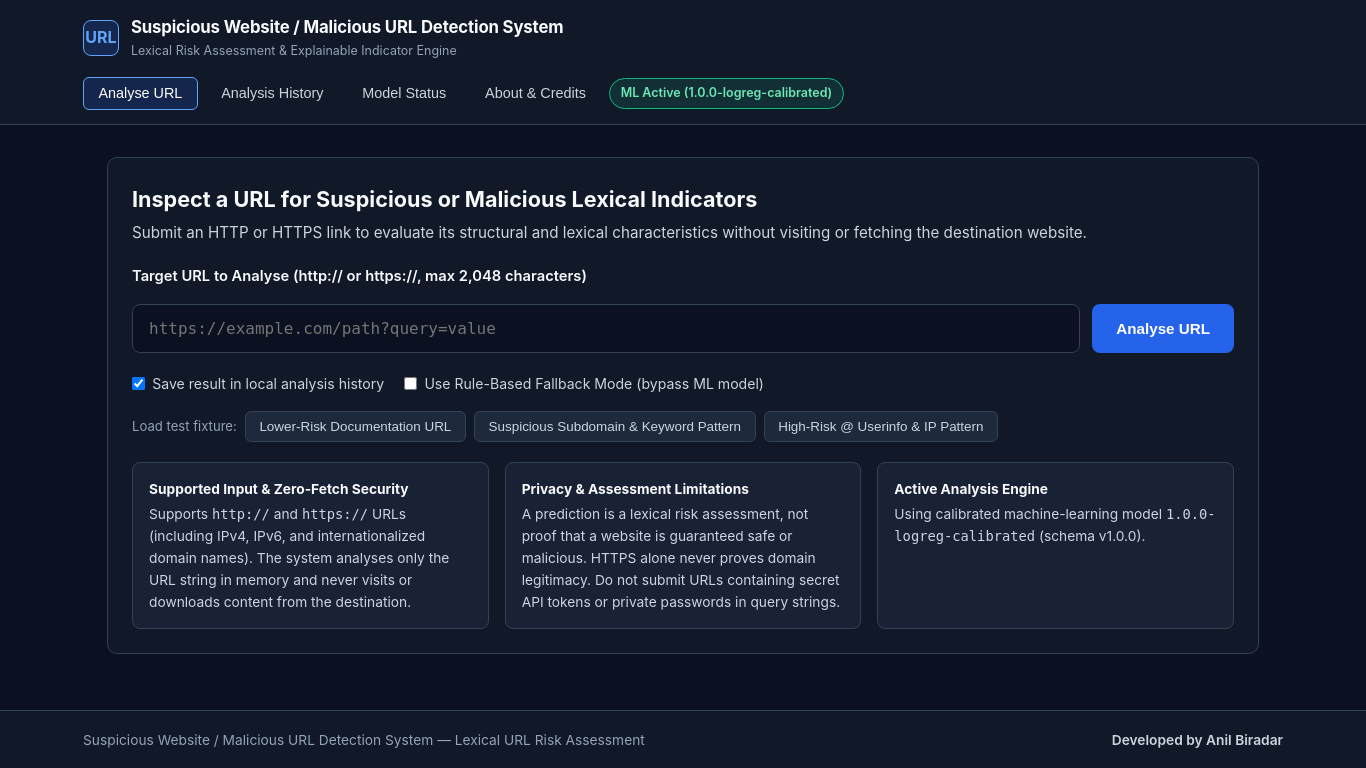
Test: Frontend Application Suite (TC-30 to TC-34 & Branding Verification) › TC-32: Understandable error messages are displayed for empty and invalid inputs
// Submit empty input
Click the button with test id "analyze-submit-btn": (1163,328) [1092,304,1234,353]
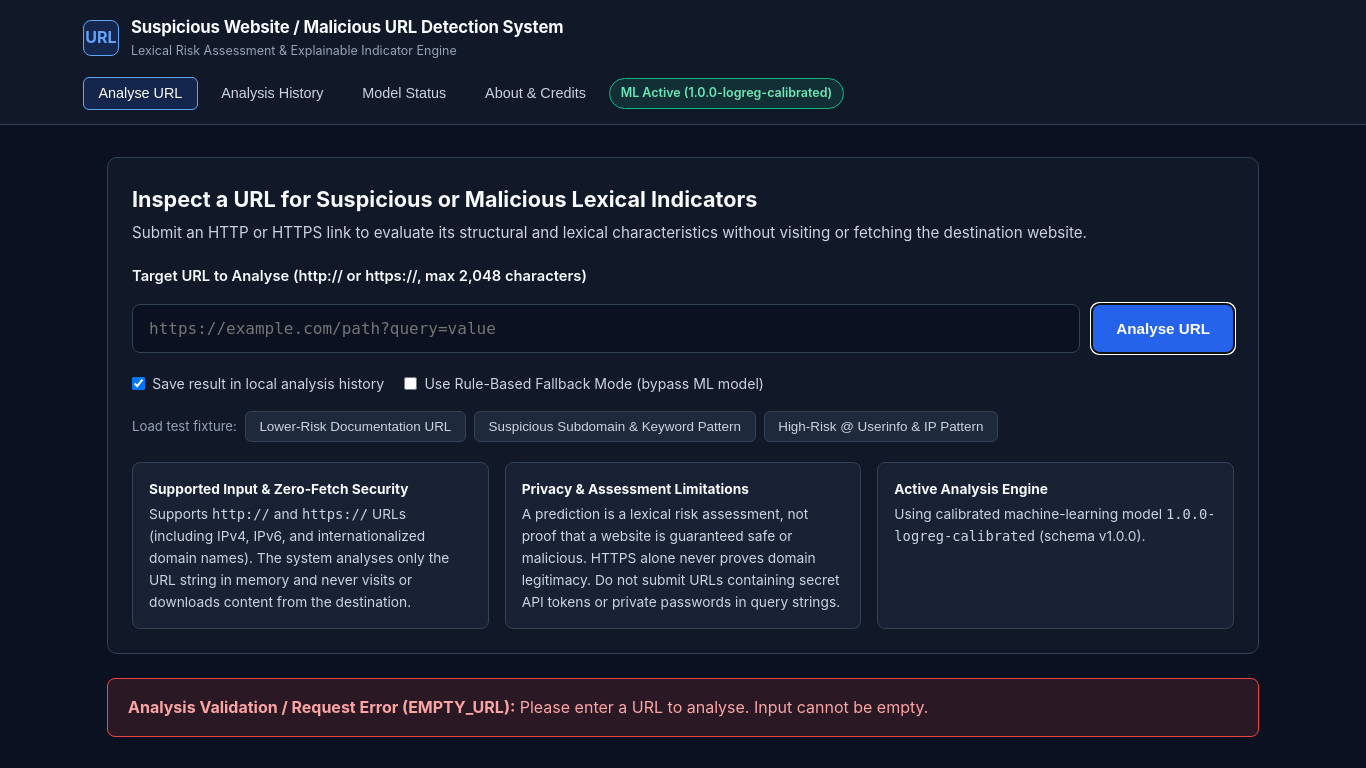
Result: the message with test id "analysis-error-banner" shows "Please enter a URL to analyse. Input cannot be empty." at [520,696,928,716]
// Submit unsupported scheme
In the field labelled "Target URL to Analyse": (606,328) [132,304,1080,353], type "ftp://files.example.com/data.zip"
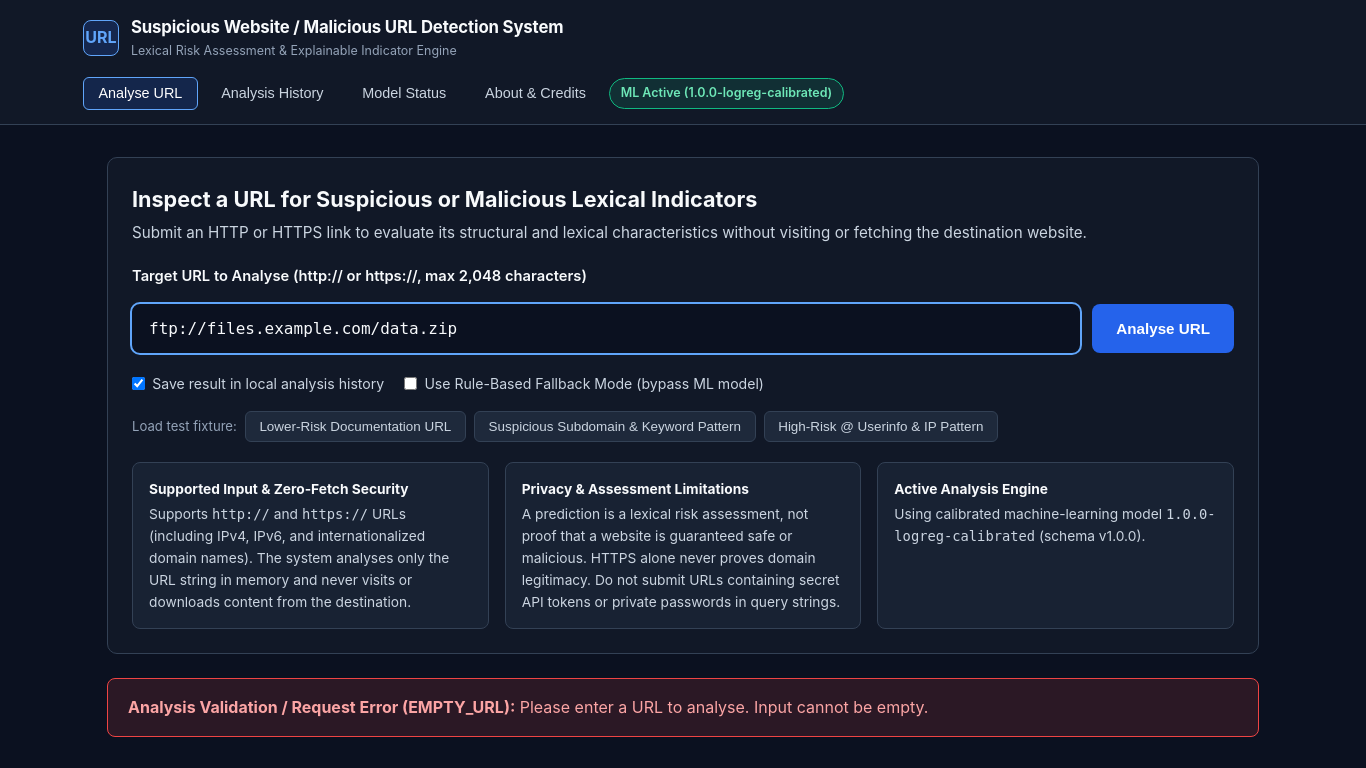
Click the button with test id "analyze-submit-btn": (1163,328) [1092,304,1234,353]
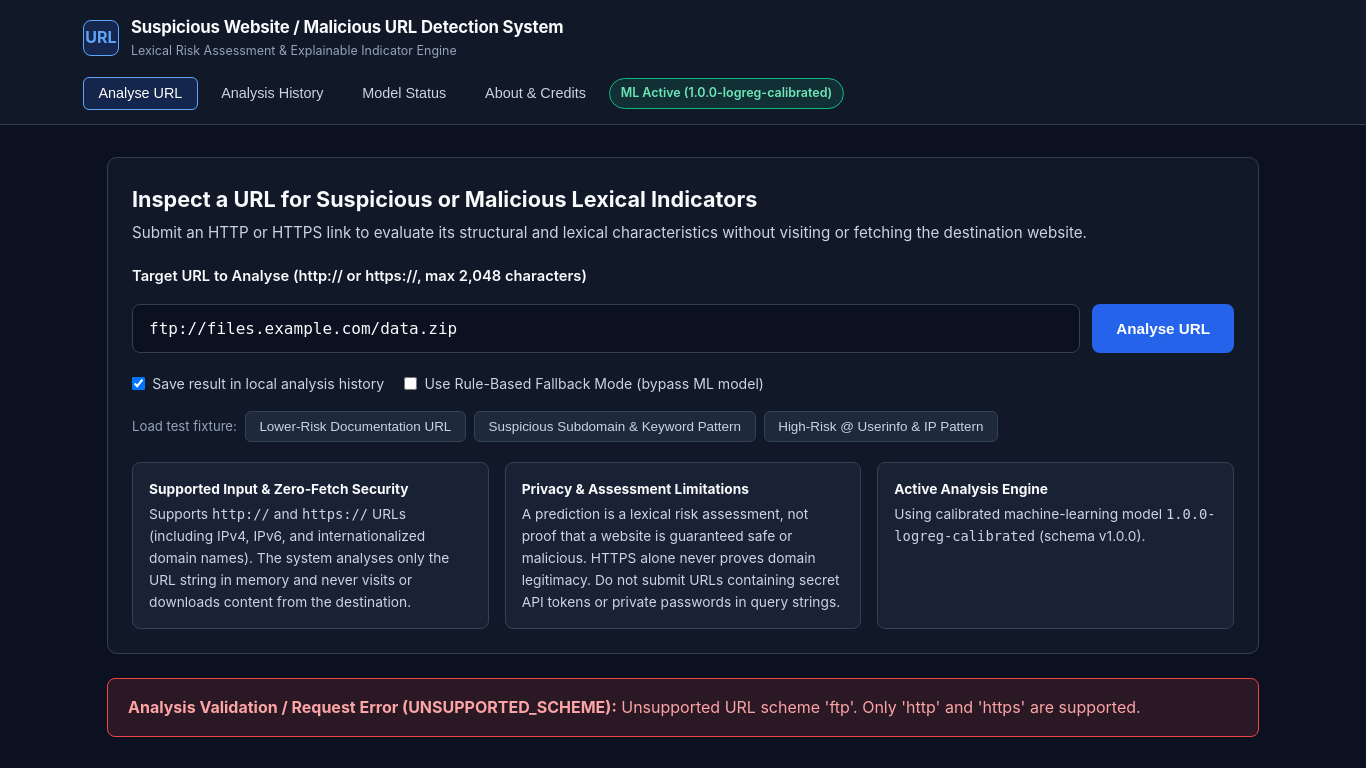
Result: the message with test id "analysis-error-banner" shows "Unsupported URL scheme 'ftp'" at [621,696,1141,716]
